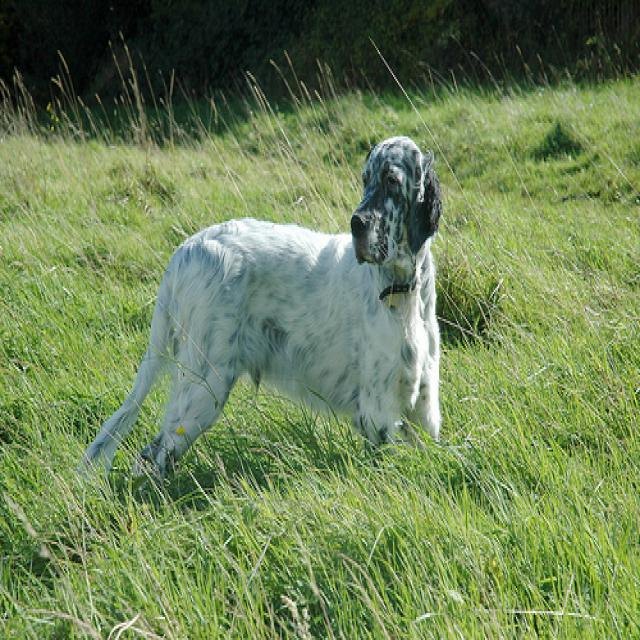dog-english_setter: (77, 121, 449, 498)
